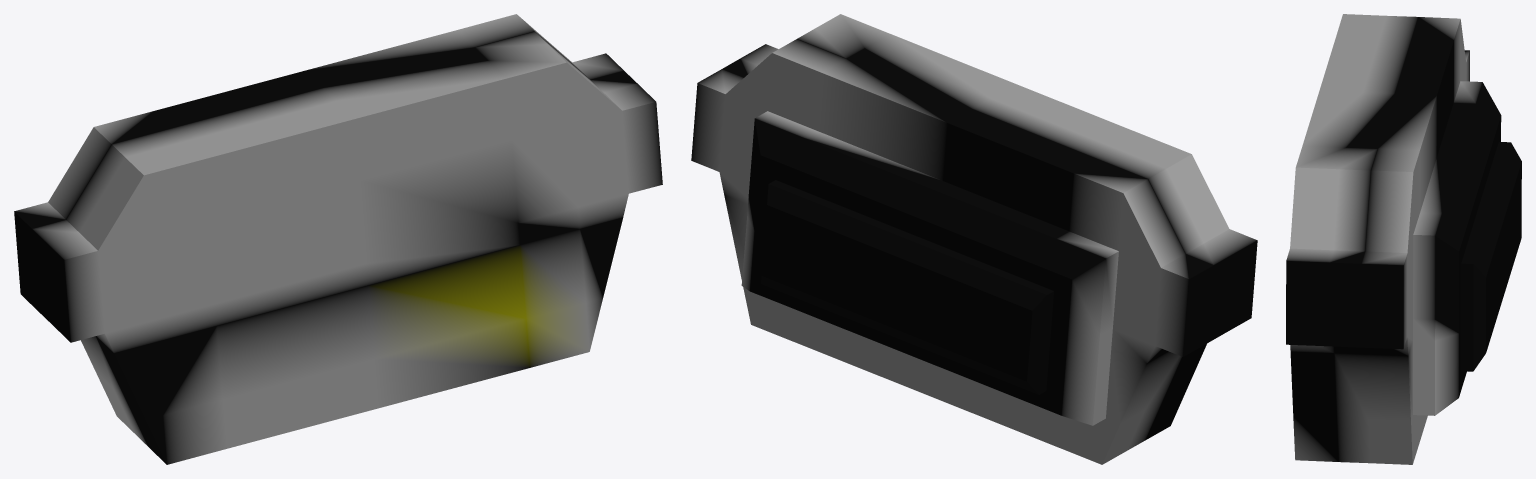
The model's file is strong_buckle_04.glb.
The picture shows the model from 3 angles, left to right: view 1: azimuth 30°, elevation 25°; view 2: azimuth 150°, elevation 25°; view 3: azimuth 270°, elevation 25°; orthographic projection. The views are drawn at different scales.
Bounding box in the file's own units: 3.2 × 1.75 × 1.19.
